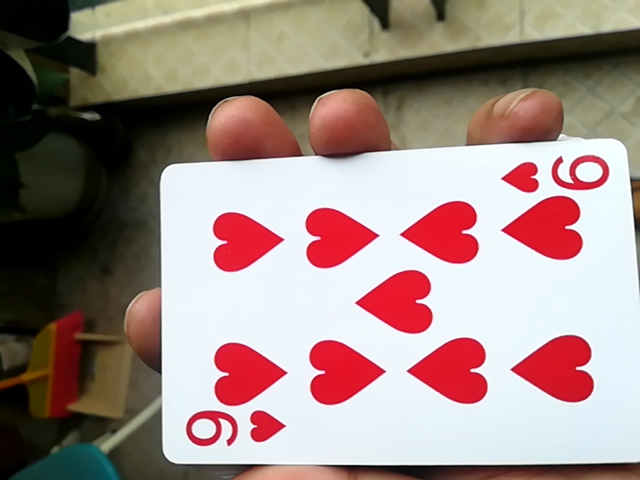hx 9: (147, 146, 635, 477)
